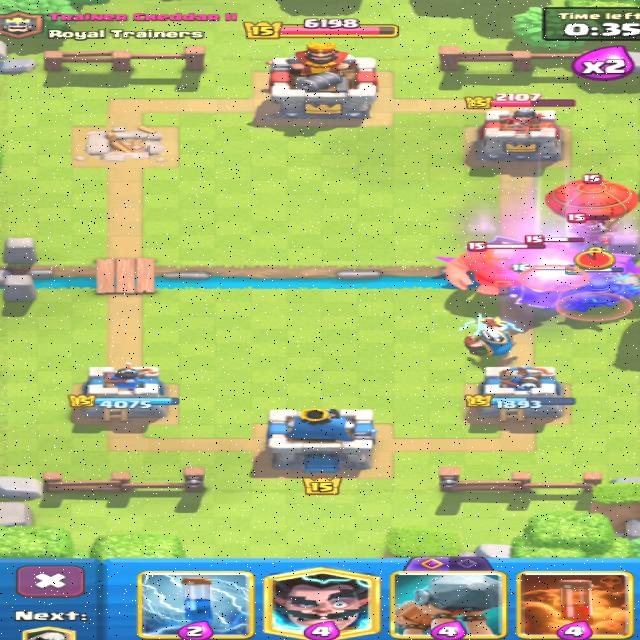Enemy-Balloon: (548, 174, 637, 232)
Enemy-Giant: (446, 247, 549, 294)
Enemy-KingTower-Activated: (268, 43, 376, 119)
Enemy-PrincessTower: (475, 109, 561, 163)
Player-KingTower: (266, 408, 376, 472)
Player-MagicArcher: (458, 314, 522, 356)
Player-PEKKA: (570, 276, 639, 311)
Player-PrincessTower: (70, 362, 178, 421), (466, 366, 574, 421)
Player-RoyalGhost-Evo: (510, 284, 573, 309)
